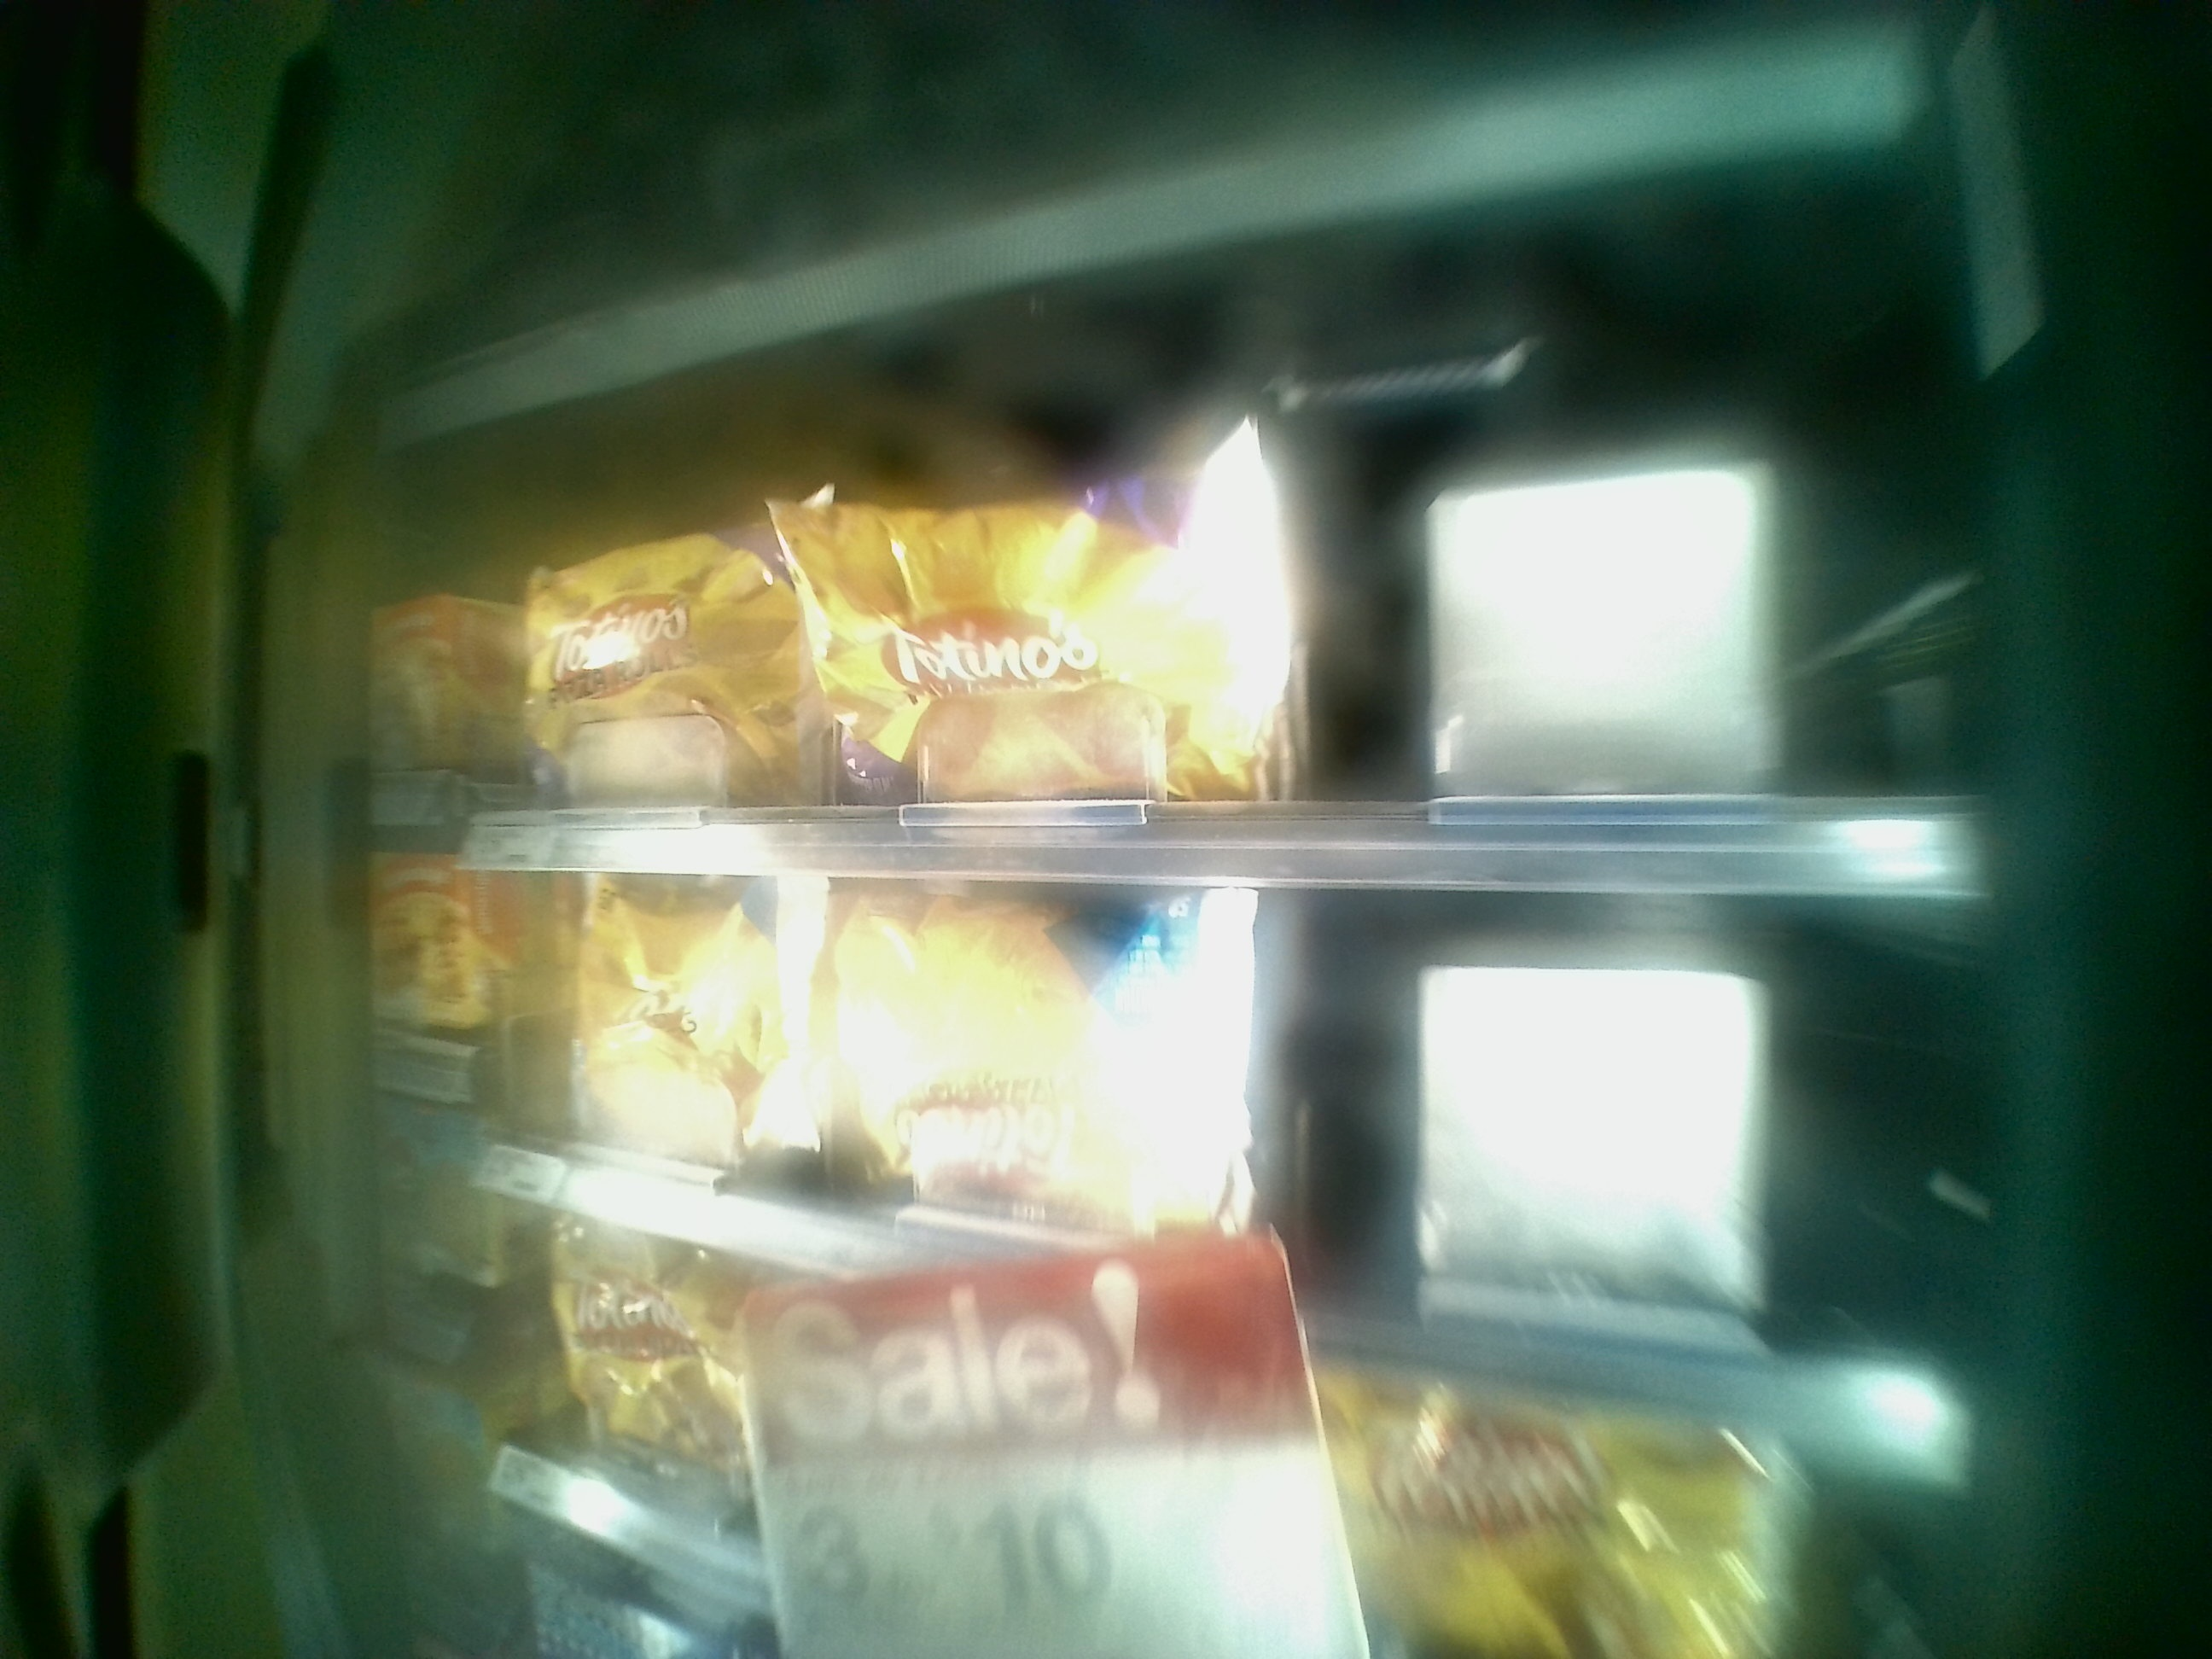shelf: (329, 859, 1972, 1448), (334, 448, 1966, 894)
